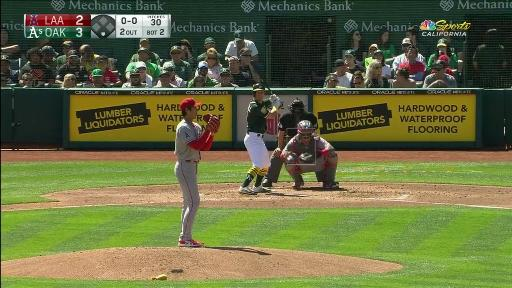pitcher: (174, 98, 220, 250)
